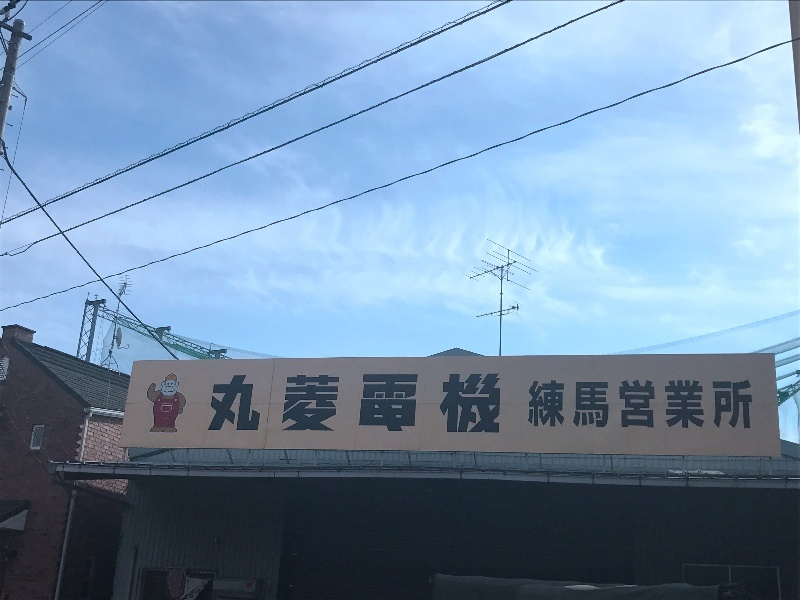text: (225, 373, 240, 435), (241, 373, 256, 435), (257, 373, 272, 435), (273, 373, 288, 435), (289, 373, 304, 435), (305, 373, 320, 435), (321, 373, 336, 435), (337, 373, 352, 435), (353, 373, 368, 435), (369, 373, 384, 435), (385, 373, 400, 435), (401, 373, 416, 435), (417, 373, 432, 435), (433, 373, 448, 435), (449, 373, 464, 435), (465, 373, 480, 435), (481, 373, 496, 435), (529, 378, 544, 431), (545, 378, 560, 431), (561, 378, 576, 431), (577, 378, 592, 431), (593, 378, 608, 431), (609, 378, 624, 431), (625, 378, 640, 431), (641, 378, 656, 431), (657, 378, 672, 431), (673, 378, 688, 431), (689, 378, 704, 431), (705, 378, 720, 431), (721, 378, 736, 431), (737, 378, 752, 431), (213, 373, 224, 435), (497, 373, 503, 435), (753, 378, 755, 431), (527, 378, 528, 431)
